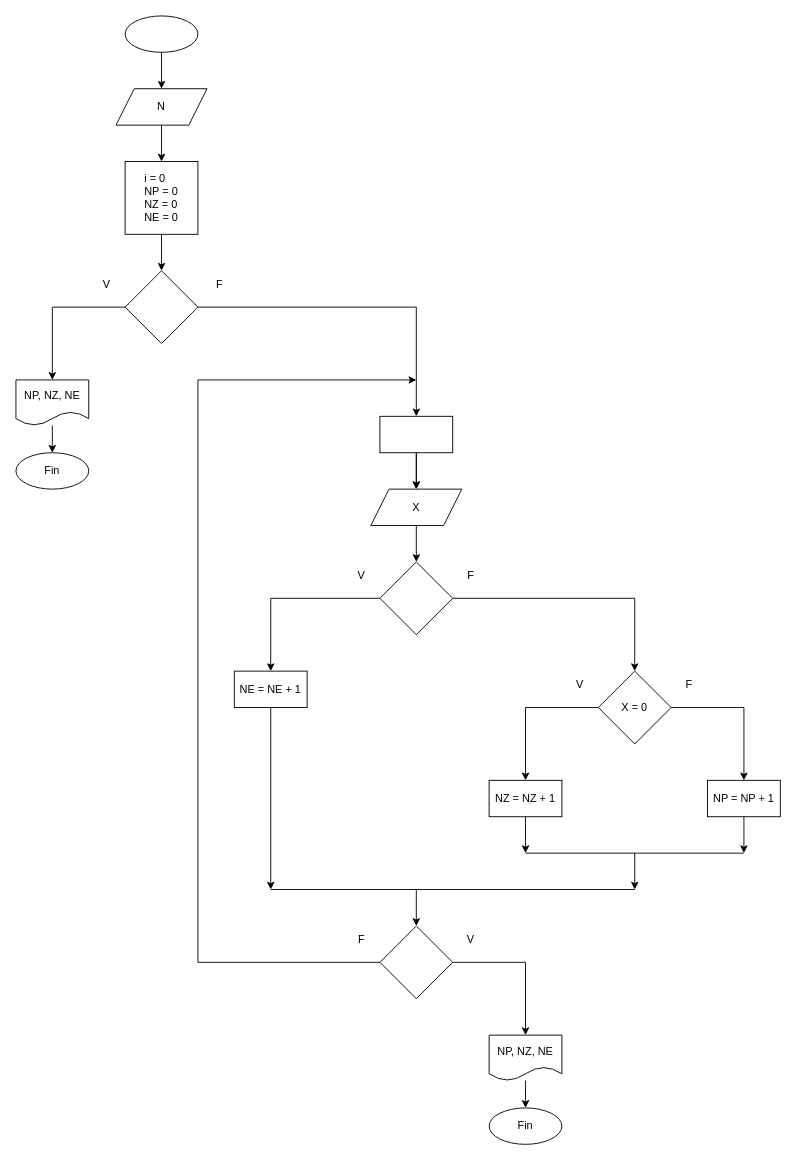
This 796x1160 diagram has some shape labels left out. Each missing label, with the centre of its shape:
"i = i + 1" goes at (416,434).
"i = N" goes at (416,962).
"Inicio" goes at (161,33).
"N <= 0" goes at (161,307).
"X < 0" goes at (416,598).
